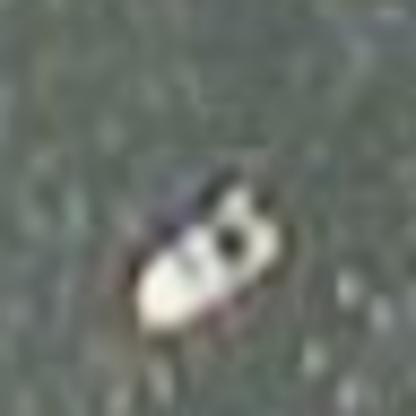ship: (113, 154, 308, 347)
